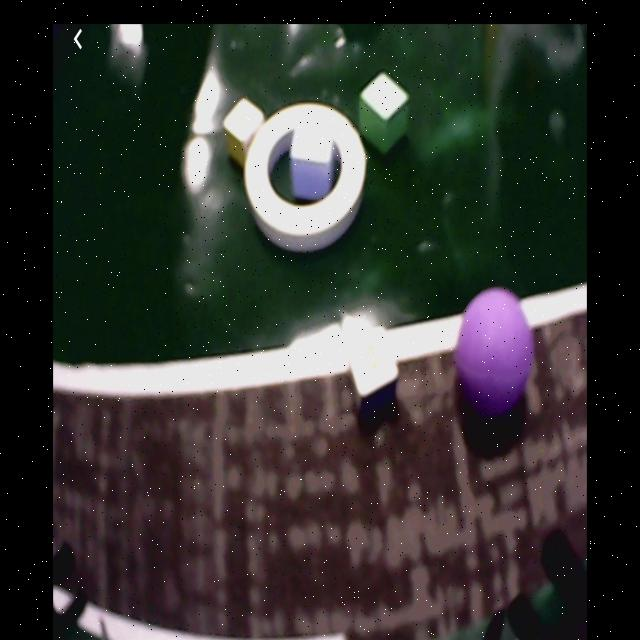ball: (457, 290, 533, 409)
